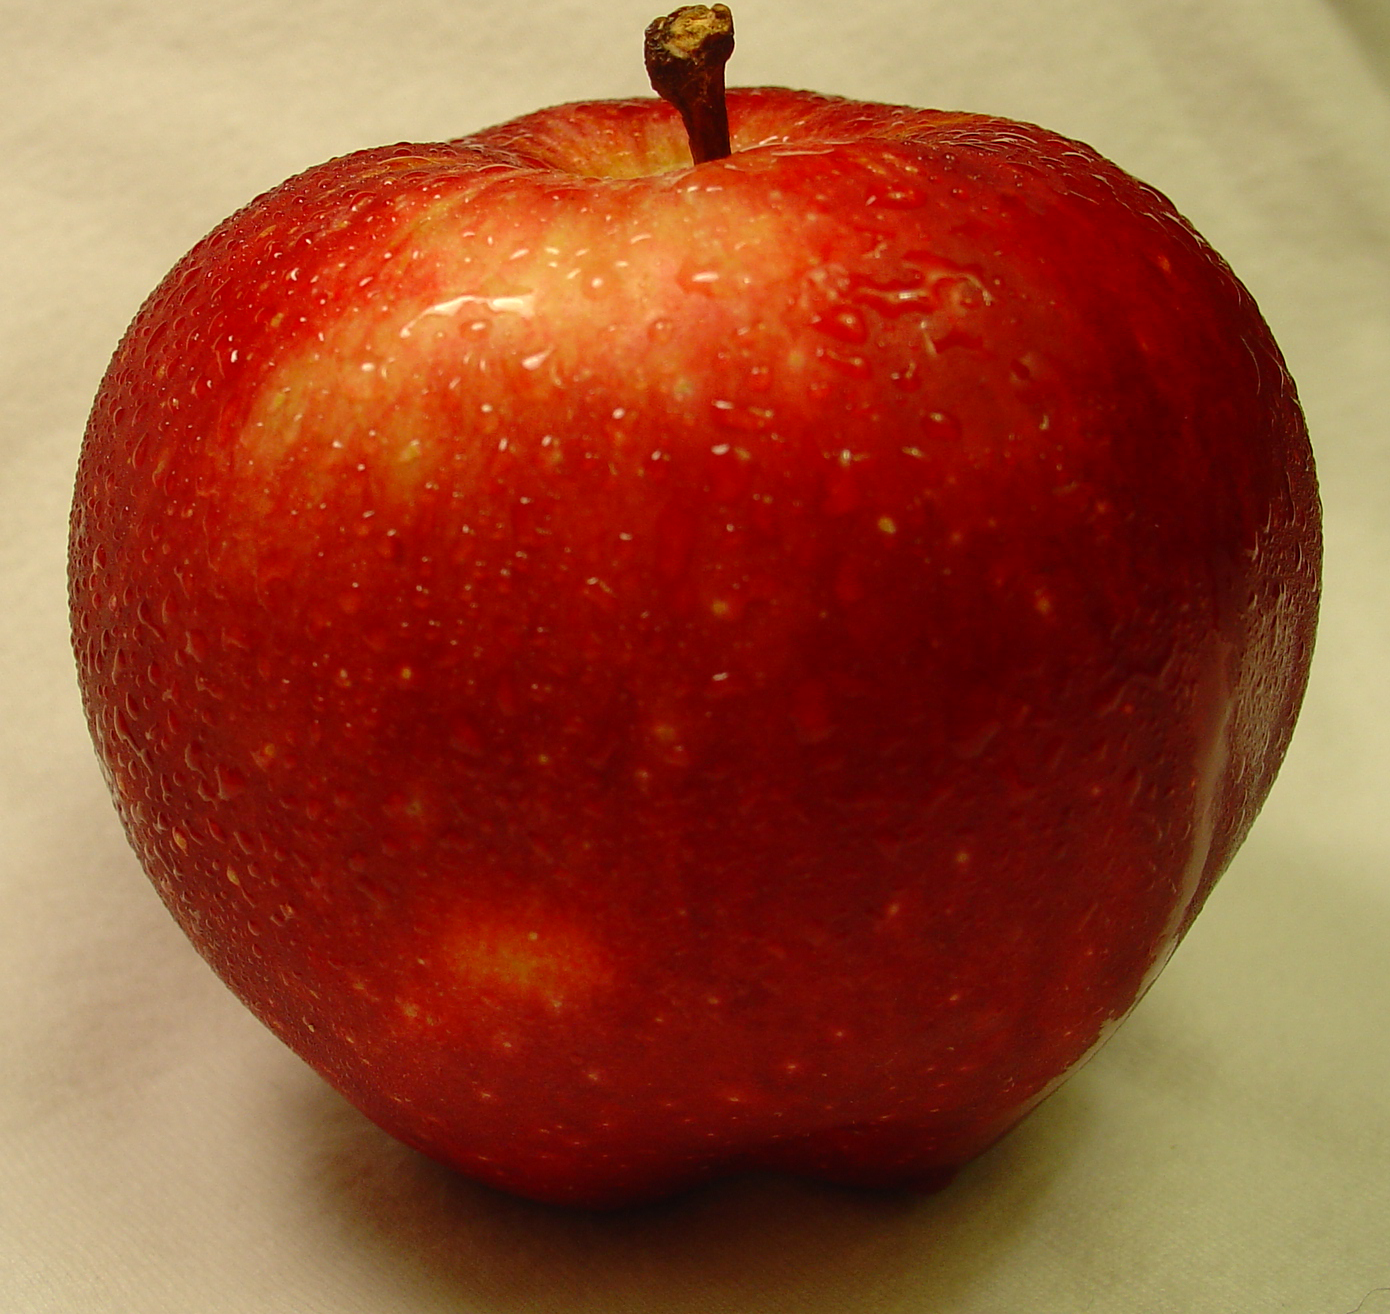apple: (62, 2, 1322, 1211)
